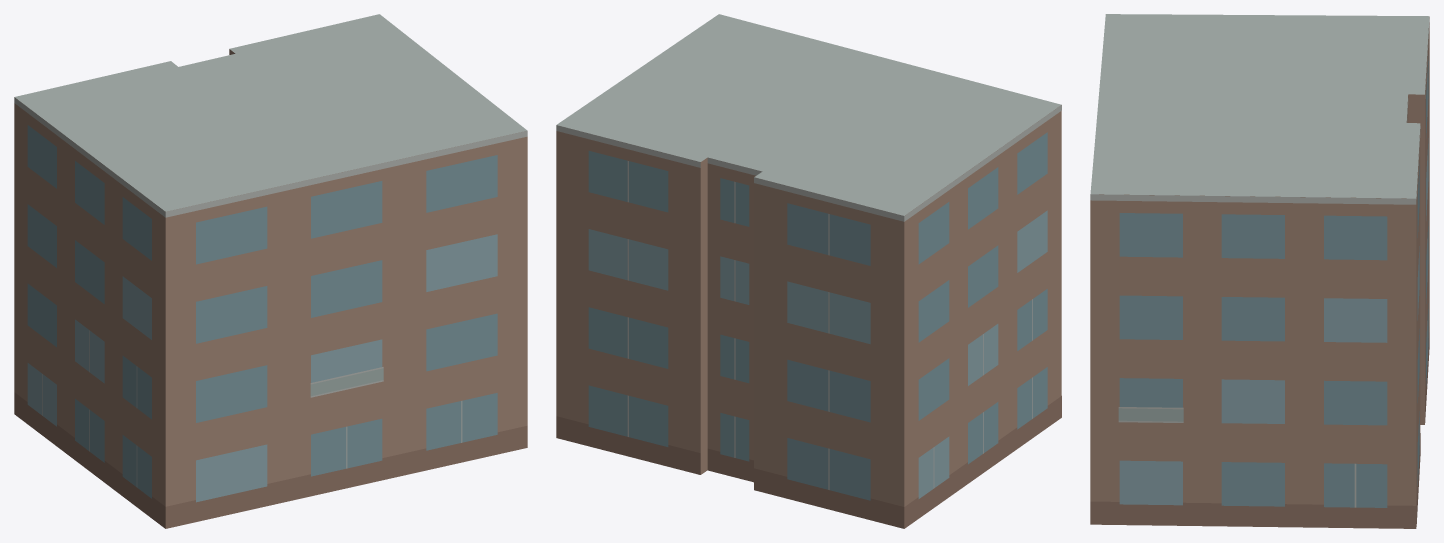
Rendered from survey-upis-32659990.glb.
3 views of the same model, side by side, from view 1: azimuth 30°, elevation 25°; view 2: azimuth 150°, elevation 25°; view 3: azimuth 270°, elevation 25° (orthographic). The views are drawn at different scales.
Visible parts, largest first — view 1: survey-upis-32659990.tmp; view 2: survey-upis-32659990.tmp; view 3: survey-upis-32659990.tmp.
Part boxes in pixels (bbox=[...]): survey-upis-32659990.tmp: bbox=[14, 14, 527, 528]; survey-upis-32659990.tmp: bbox=[556, 14, 1061, 528]; survey-upis-32659990.tmp: bbox=[1090, 14, 1429, 528].
Bounding box in the file's own units: 15.59 × 13 × 12.11.
